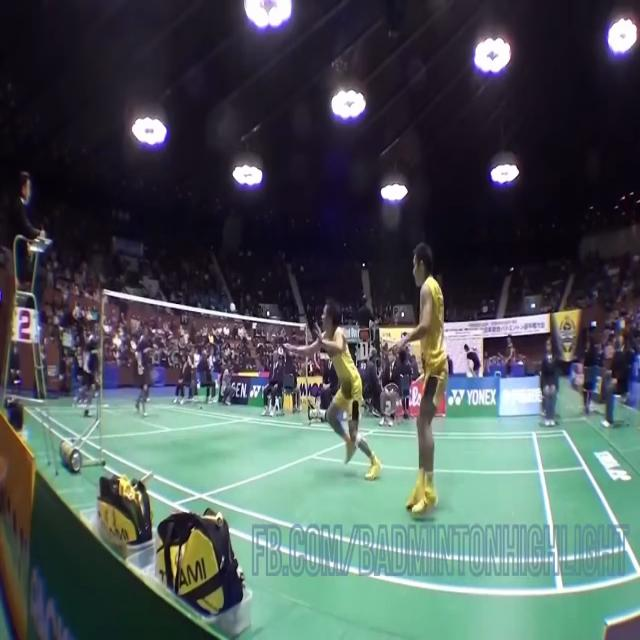shuttlecock: (230, 302, 236, 312)
